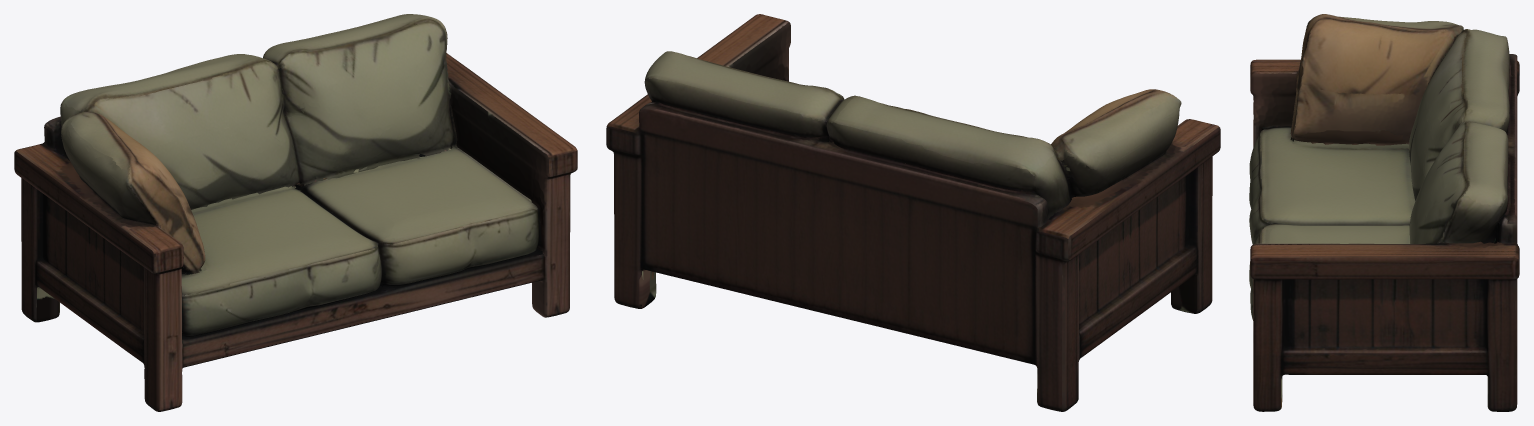
The model's file is world-furniture-0.glb.
The picture shows the model from 3 angles, left to right: view 1: azimuth 30°, elevation 25°; view 2: azimuth 150°, elevation 25°; view 3: azimuth 270°, elevation 25°; orthographic projection. The views are drawn at different scales.
Visible parts, largest first — view 1: tmpp_2ep7p3.ply; view 2: tmpp_2ep7p3.ply; view 3: tmpp_2ep7p3.ply.
Part boxes in pixels (x1=…): tmpp_2ep7p3.ply: x1=14, y1=14, x2=577, y2=411; tmpp_2ep7p3.ply: x1=606, y1=14, x2=1220, y2=411; tmpp_2ep7p3.ply: x1=1249, y1=14, x2=1519, y2=411.
Size of the model in its own units: 1.96 by 0.9862 by 1.13.
1 material, 1 textured.
